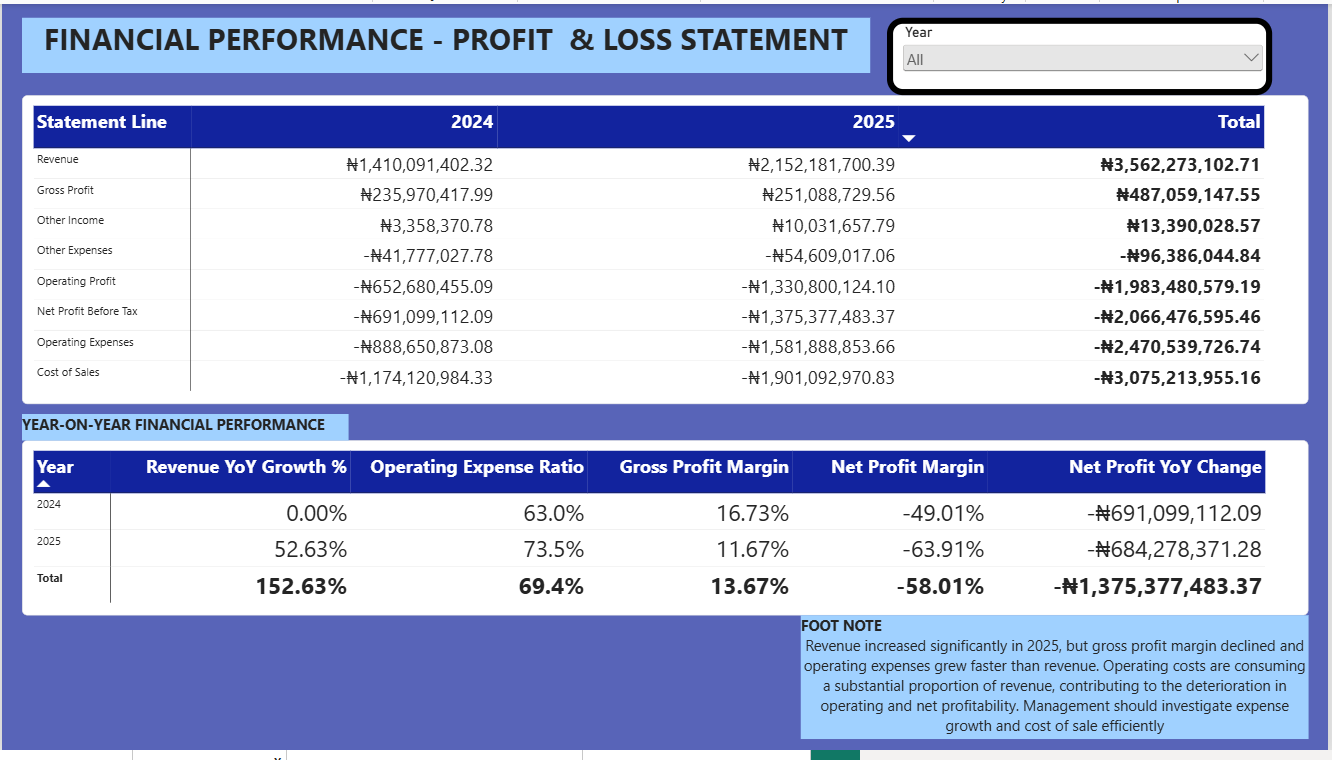

What the dashboard file says about the page in this screenshot:
{"tool":"powerbi","page":{"name":"PROFIT & LOSS","canvas":[1920,1080],"ordinal":1},"visuals":[{"type":"textbox","box":[29,19.9,1228.1,79.7],"z":0},{"type":"pivotTable","fields":{"Columns":["Date.Year"],"Rows":["PLStatementLayout.Statement Line"],"Values":["Account.P&L Statement Display"]},"box":[29,132.2,1862,447.4],"z":1000},{"type":"slicer","fields":{"Values":["Date.Year"]},"box":[1280.6,19.9,557.9,112.3],"z":2000},{"type":"pivotTable","fields":{"Rows":["Date.Year"],"Values":["FinancialTransactions.Revenue YoY Growth %","FinancialTransactions.Operating Expense Ratio","FinancialTransactions.Gross Profit Margin","FinancialTransactions.Net Profit Margin","FinancialTransactions.Net Profit YoY Change"]},"box":[29,632.2,1862,253.6],"z":3000},{"type":"textbox","box":[29,594.1,472.8,38],"z":4000},{"type":"textbox","box":[1155.6,885.7,735.4,179.3],"z":5000}]}

Visuals, with their boxes in screenshot pixels (x1, y1, x2, y2), scaled from the page's 1920x1080 canvas onto the 1332x760 screenshot:
textbox: bbox=[20, 14, 872, 70]
pivotTable - Date.Year x PLStatementLayout.Statement Line: bbox=[20, 93, 1312, 408]
slicer - Date.Year: bbox=[888, 14, 1275, 93]
pivotTable - Date.Year x FinancialTransactions.Revenue YoY Growth %: bbox=[20, 445, 1312, 623]
textbox: bbox=[20, 418, 348, 445]
textbox: bbox=[802, 623, 1312, 749]
